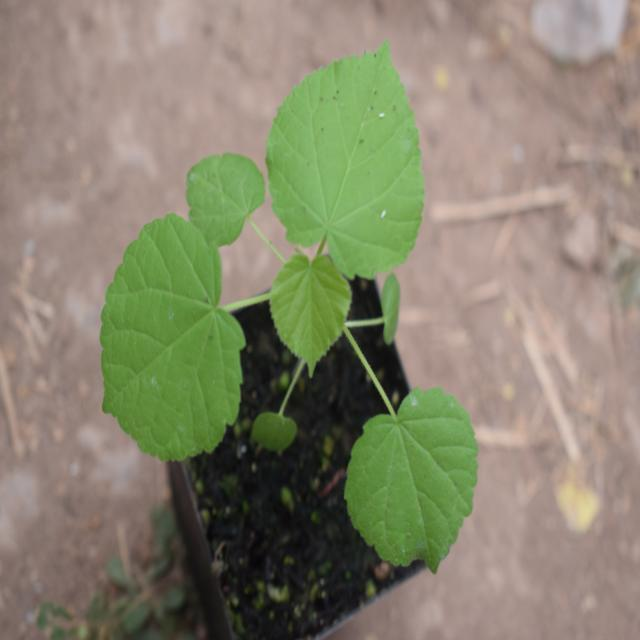abutilon theophrasti: (96, 49, 488, 539)
